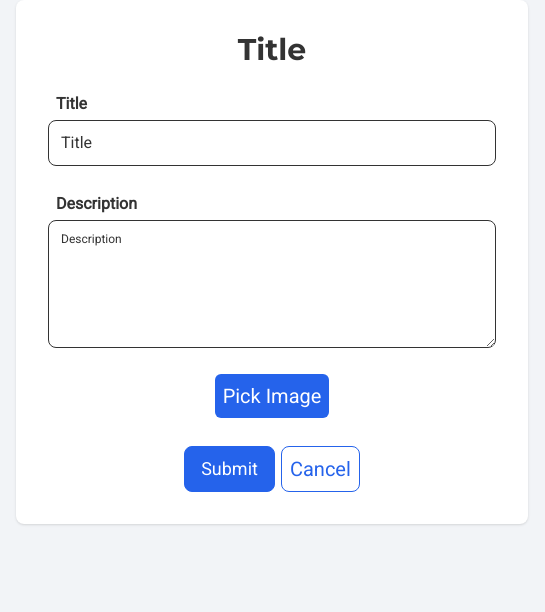
Test: Post From › Does not send request when no fields were changed and renders error
Click the button "Submit": (230, 469) [184,446,275,492]
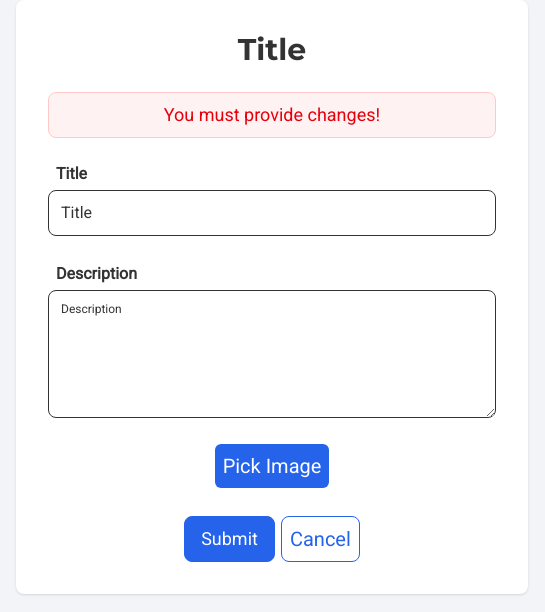
Result: the heading "You must provide changes!" is shown at [164,104,380,125]
